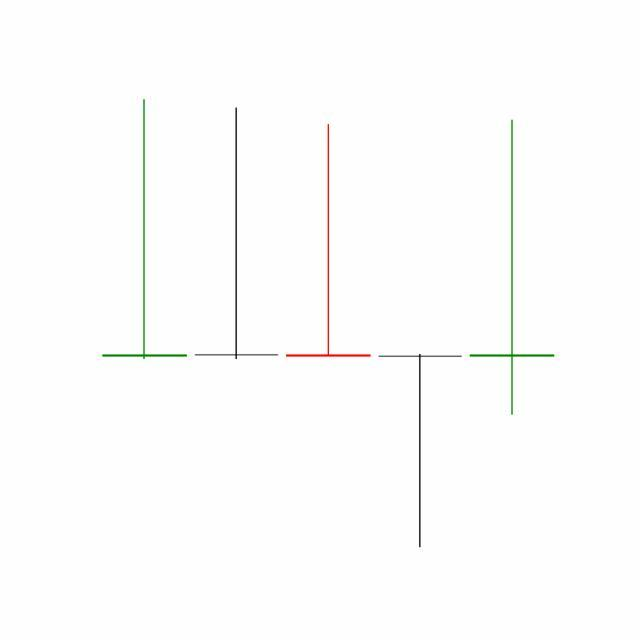Dragonfly Doji: (374, 352, 468, 551)
